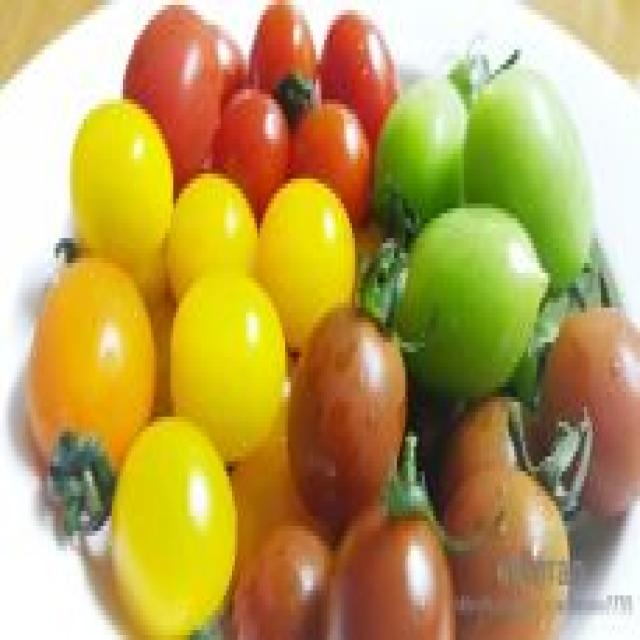level 1: (456, 35, 600, 296), (403, 214, 551, 404), (373, 46, 478, 230)
level 3: (72, 406, 241, 635), (150, 278, 290, 462), (57, 89, 176, 282), (244, 172, 358, 355)
level 4: (16, 241, 157, 510), (430, 468, 577, 634), (548, 301, 640, 520), (452, 364, 550, 498)
level 5: (271, 289, 419, 520), (311, 461, 458, 640), (237, 514, 331, 640)
level 6: (116, 0, 226, 164), (154, 169, 262, 307), (315, 12, 406, 137), (203, 81, 296, 202), (289, 94, 381, 198), (254, 7, 317, 107)
